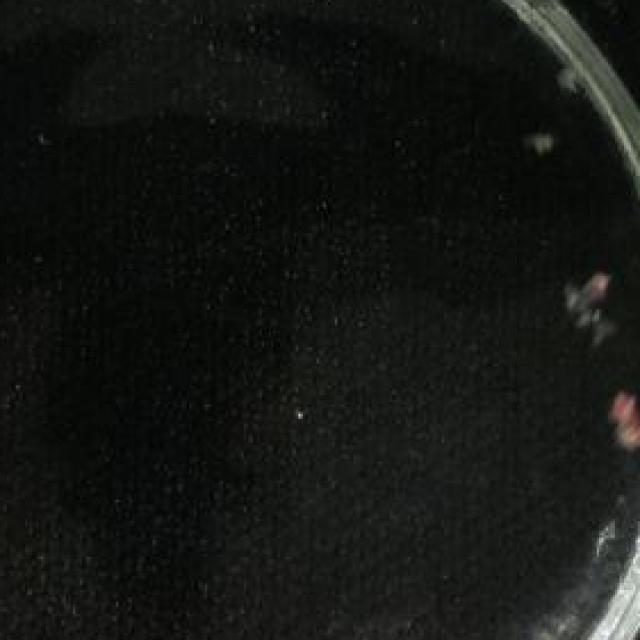Microplastic: (554, 266, 624, 357), (606, 383, 640, 457), (510, 121, 560, 157)
